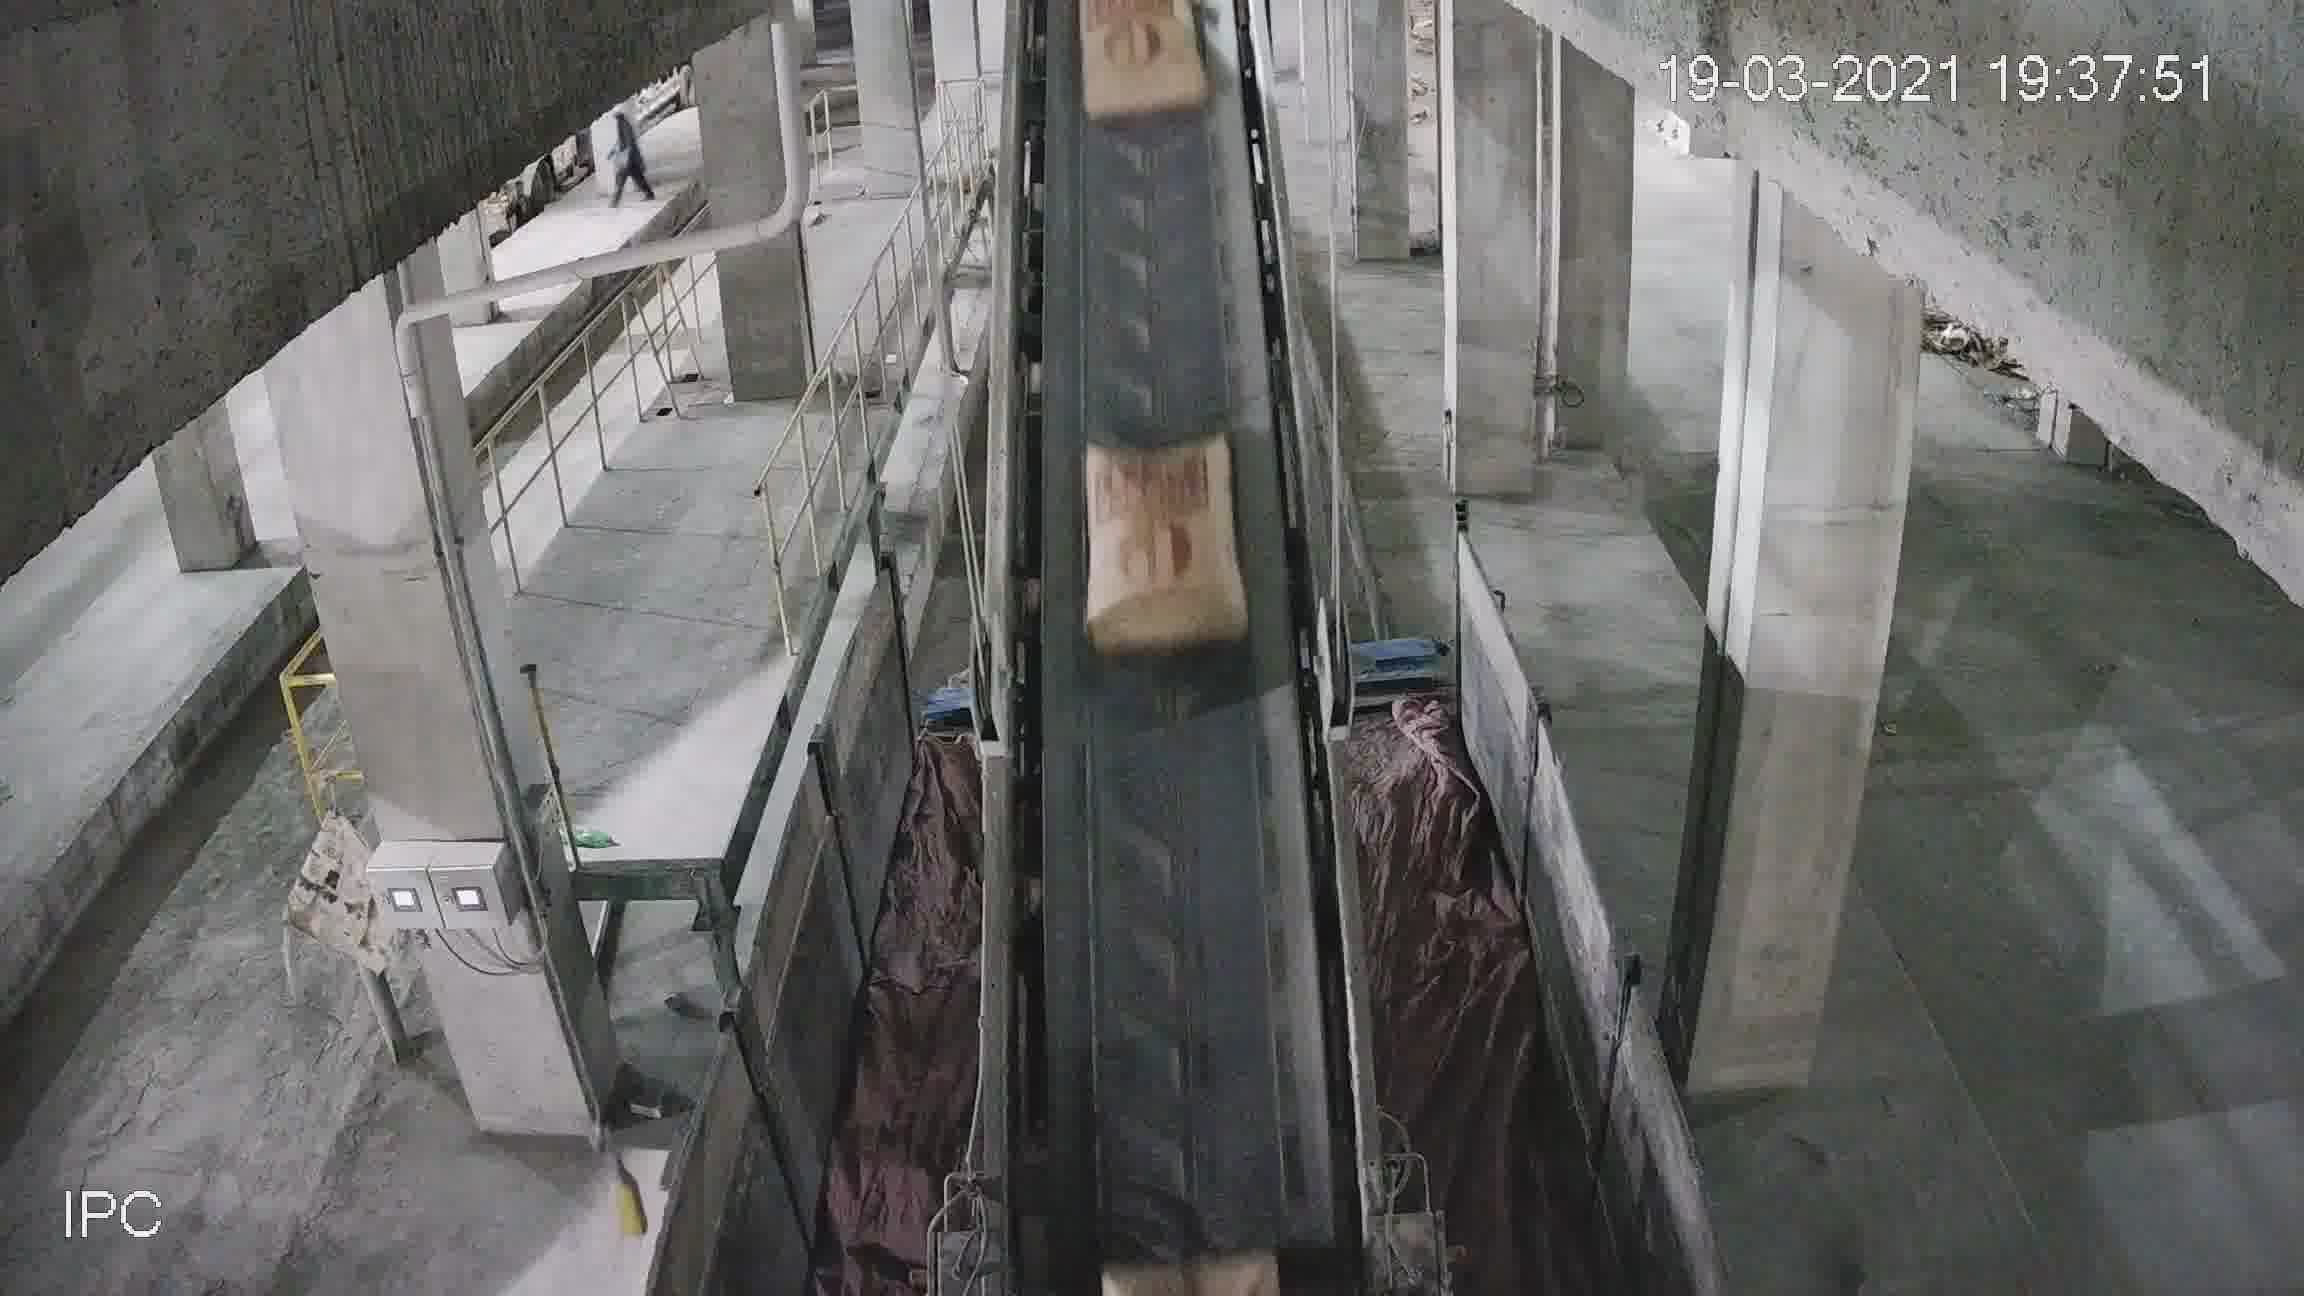bag: (1079, 443, 1241, 642), (1078, 16, 1214, 111)
belt: (978, 125, 1345, 1168)
